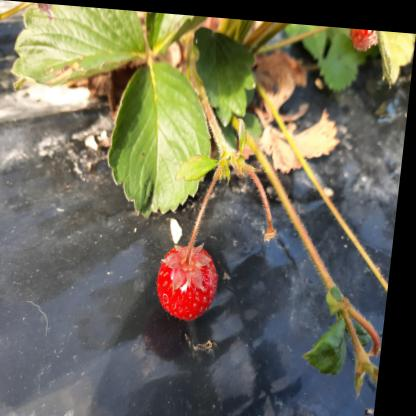ripe: (163, 239, 227, 314)
